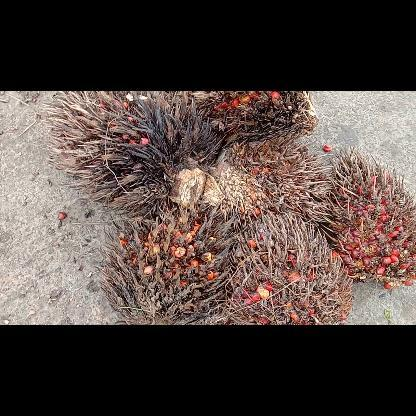Terlalu masak: (40, 91, 224, 216), (96, 198, 236, 324), (226, 212, 352, 324), (323, 145, 415, 290), (214, 137, 332, 221), (187, 91, 318, 141)
